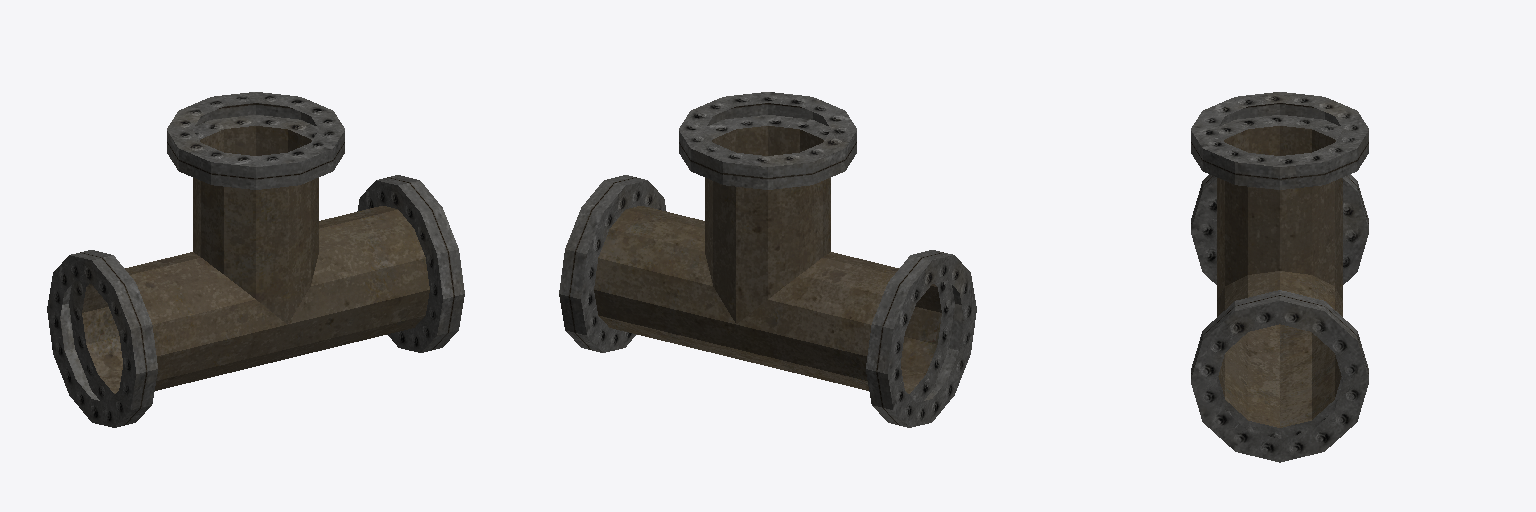
3 views of the same model, side by side, from view 1: azimuth 30°, elevation 25°; view 2: azimuth 150°, elevation 25°; view 3: azimuth 270°, elevation 25° (orthographic).
Visible parts, largest first — view 1: t_piece_closed; view 2: t_piece_closed; view 3: t_piece_closed.
Part boxes in pixels (x1,y1,x2,y2): t_piece_closed: (47, 92, 464, 427); t_piece_closed: (559, 92, 976, 427); t_piece_closed: (1191, 92, 1368, 462).
Bounding box in the file's own units: 1.5 × 1.1 × 0.7071.
1 materials, 1 textured.